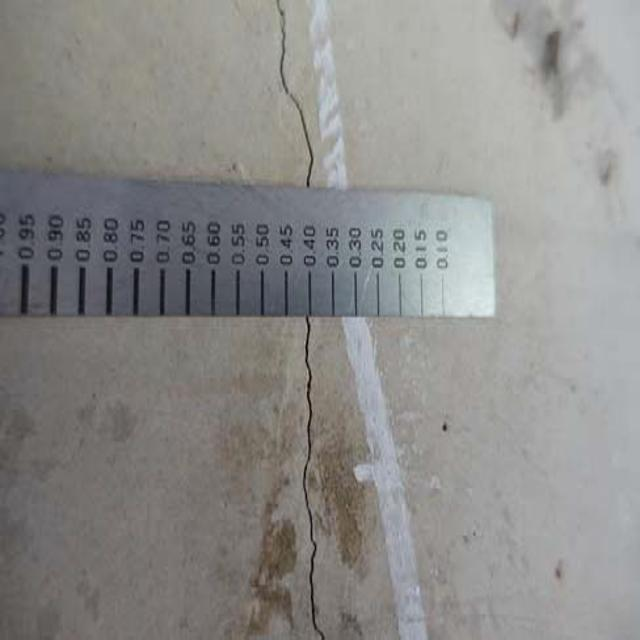crack: (287, 320, 340, 640), (267, 3, 330, 190)
